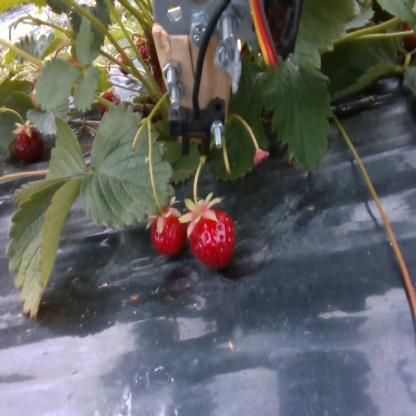ripe: (190, 209, 236, 268), (152, 209, 186, 260), (14, 126, 43, 158)
